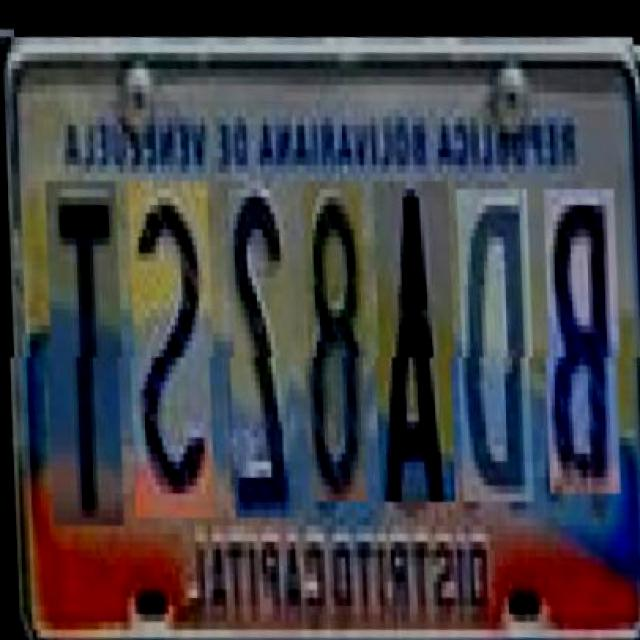2: (222, 171, 290, 512)
8: (297, 172, 365, 497)
a: (368, 171, 452, 497)
b: (537, 179, 618, 489)
d: (450, 179, 530, 498)
s: (122, 170, 212, 513)
t: (39, 171, 120, 521)
